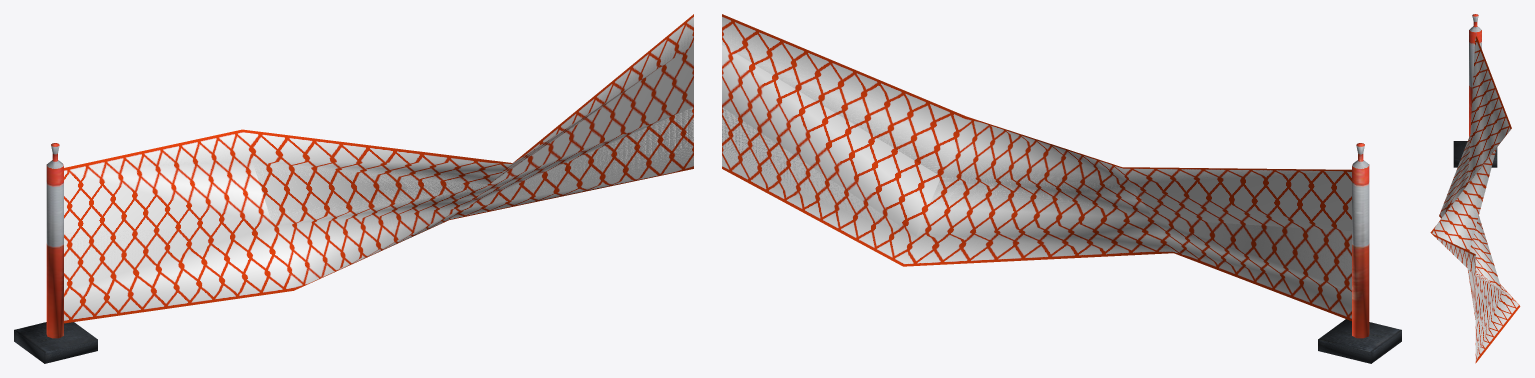
File: orangeFence_sag2_1.fbx
3 renders of one model, left to right at view 1: azimuth 30°, elevation 25°; view 2: azimuth 150°, elevation 25°; view 3: azimuth 270°, elevation 25°, orthographic. The views are drawn at different scales.
Parts seen in each view (by area): view 1: Plane01, Duplicate03, Cylinder02, Box03; view 2: Plane01, Duplicate03, Cylinder02, Box03; view 3: Plane01, Duplicate03, Cylinder02, Box03.
Boxes of the visible parts, x1,y1,x2,y2 form: Plane01: (64,14,693,323); Duplicate03: (64,16,693,322); Cylinder02: (46,143,63,338); Box03: (14,322,97,363); Plane01: (722,14,1351,321); Duplicate03: (722,14,1351,315); Cylinder02: (1352,143,1369,338); Box03: (1318,319,1401,363); Plane01: (1430,36,1520,363); Duplicate03: (1431,39,1518,361); Cylinder02: (1469,14,1481,136); Box03: (1453,141,1497,167).
Bounding box in the file's own units: 375 × 110 × 62.05.
